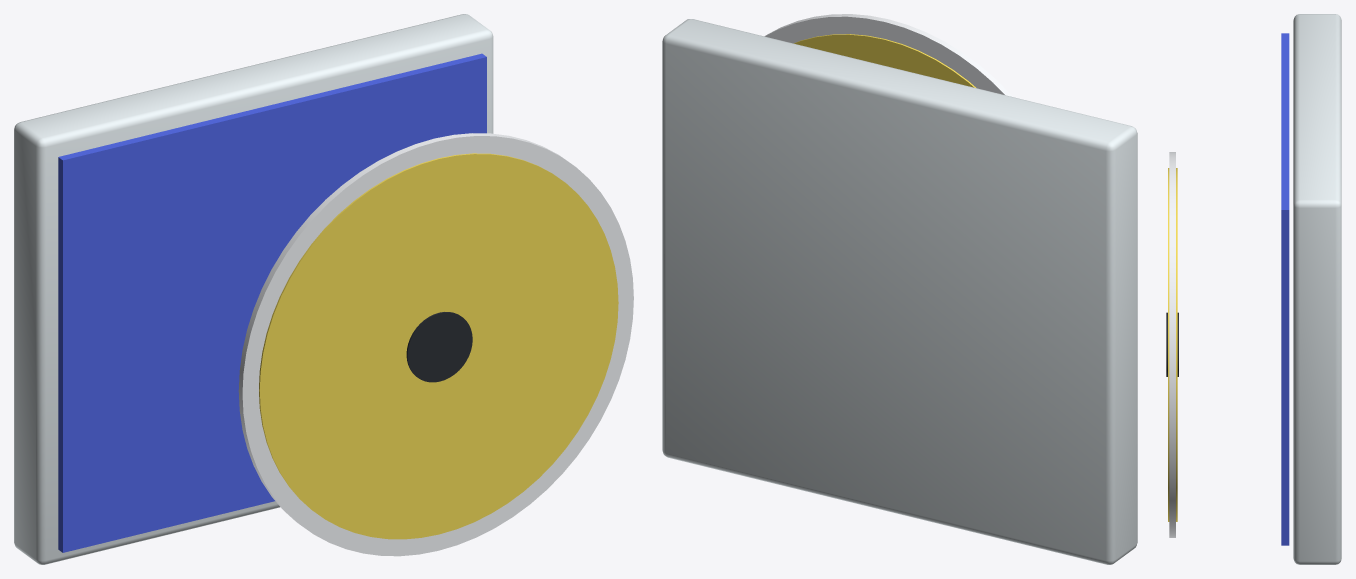
The model's file is disc.glb.
The picture shows the model from 3 angles, left to right: view 1: azimuth 30°, elevation 25°; view 2: azimuth 150°, elevation 25°; view 3: azimuth 270°, elevation 25°; orthographic projection. The views are drawn at different scales.
Visible parts, largest first — view 1: cdlbl, jacket, case.002, cd, hole; view 2: case.002, cd, cdlbl; view 3: case.002, jacket, cd, cdlbl, hole.
Part boxes in pixels (<box>): cdlbl: <box>259,153,618,539</box>; jacket: <box>58,53,486,552</box>; case.002: <box>14,14,493,564</box>; cd: <box>238,133,633,556</box>; hole: <box>406,312,472,382</box>; case.002: <box>662,19,1137,564</box>; cd: <box>764,14,1012,96</box>; cdlbl: <box>794,34,975,87</box>; case.002: <box>1293,14,1341,564</box>; jacket: <box>1281,33,1289,545</box>; cd: <box>1169,152,1175,537</box>; cdlbl: <box>1168,168,1177,521</box>; hole: <box>1166,312,1178,376</box>.
Bounding box in the file's own units: 0.32 × 0.255 × 0.109.
